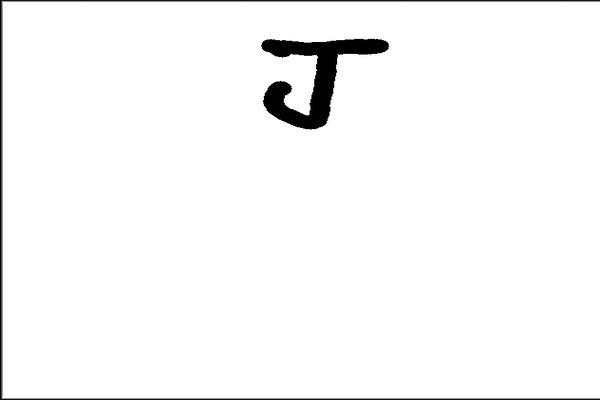J: (252, 25, 398, 131)
